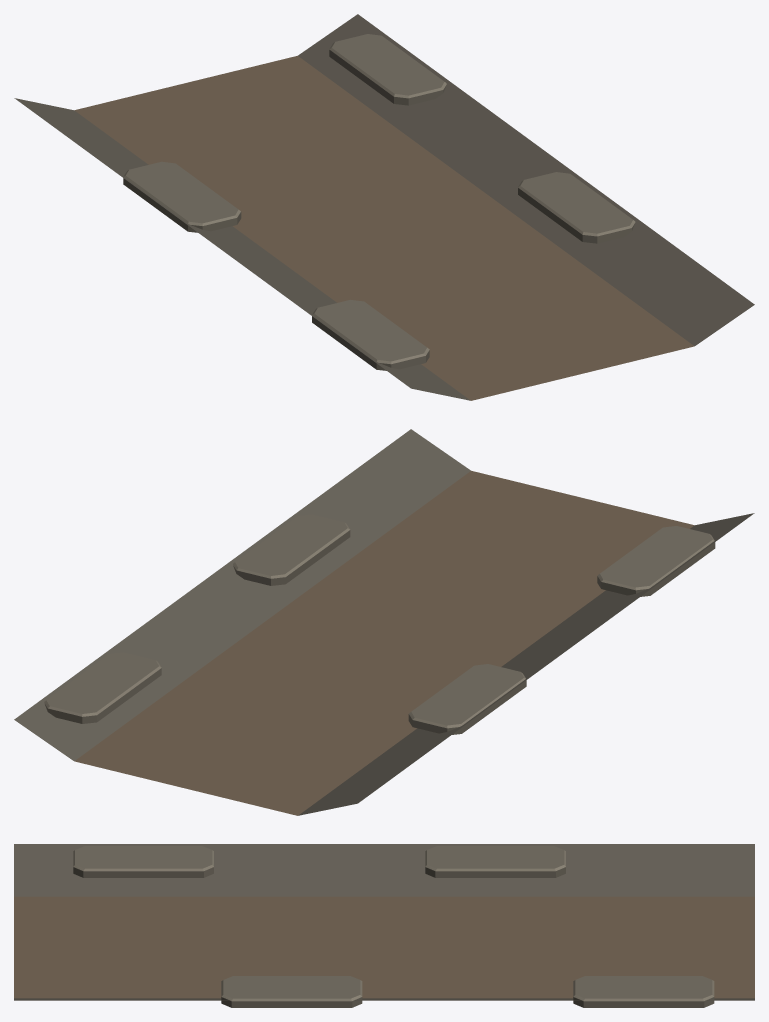
The model's file is dry_streambed_4m.glb.
The picture shows the model from 3 angles, top to bottom: view 1: azimuth 30°, elevation 25°; view 2: azimuth 150°, elevation 25°; view 3: azimuth 270°, elevation 25°; orthographic projection. The views are drawn at different scales.
Parts seen in each view (by area): view 1: Body_dry_streambed_4m.001; view 2: Body_dry_streambed_4m.001; view 3: Body_dry_streambed_4m.001.
Boxes of the visible parts, box(x1,y1,x2,y2) form: Body_dry_streambed_4m.001: box(14, 14, 754, 400); Body_dry_streambed_4m.001: box(14, 429, 754, 815); Body_dry_streambed_4m.001: box(14, 844, 754, 1007).
Bounding box in the file's own units: 2 × 0.15 × 4.
